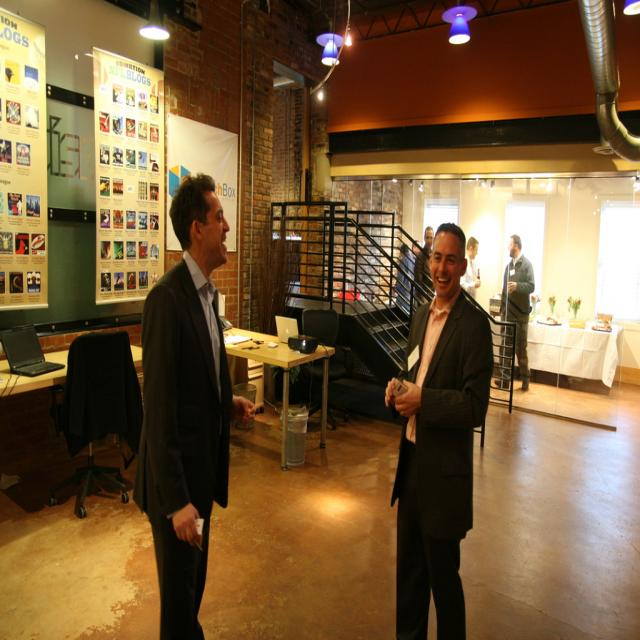chair: (48, 330, 144, 518), (302, 309, 347, 429)
desk: (223, 317, 345, 476)
laptop: (1, 323, 63, 377), (274, 314, 299, 343)
person: (135, 168, 238, 630), (387, 220, 492, 636), (501, 233, 536, 392), (413, 226, 435, 308), (462, 236, 481, 293)
